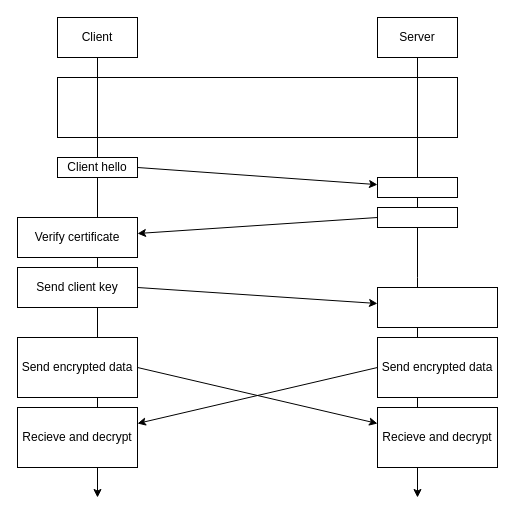
The diagram is 515 pixels wide and 523 high, and some of its shapes have lost their labels. The shapes that lost their labels are listed below. From the top down, each one's box as (x1, y1, x2, y2) in pixels, then its label:
(56, 76, 458, 138): TCP connection established
(376, 176, 458, 198): Server hello
(376, 206, 458, 228): Certificate
(376, 286, 498, 328): Recieve client key
